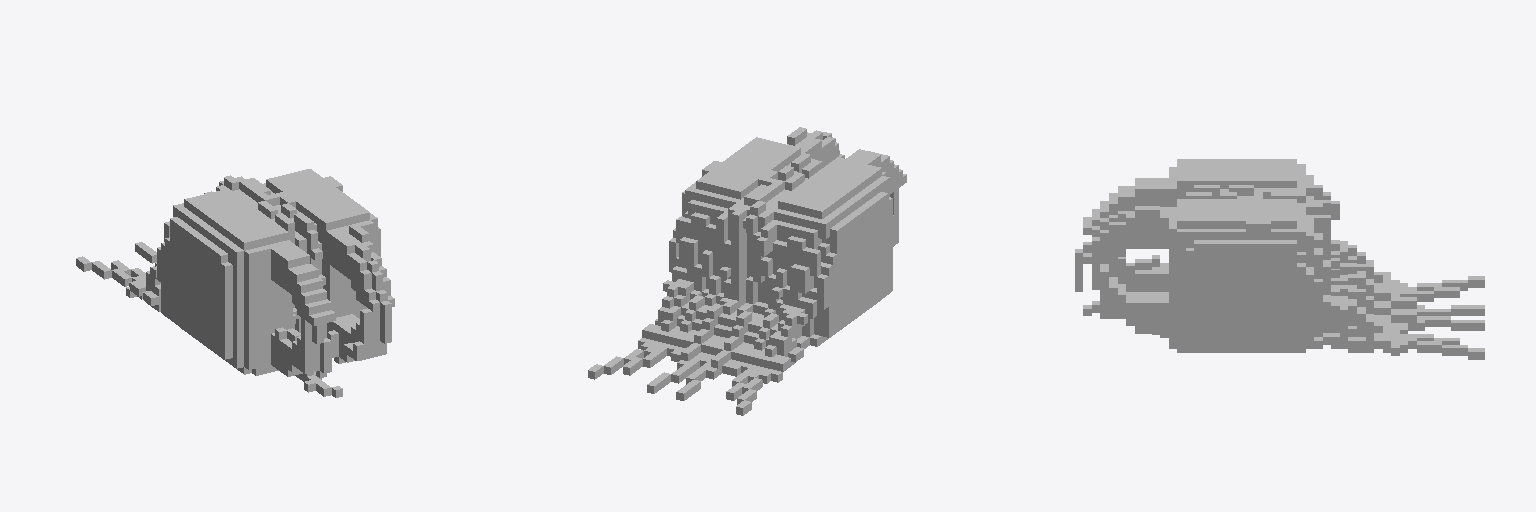
The model's file is brain.obj.
The picture shows the model from 3 angles: view 1: azimuth 30°, elevation 25°; view 2: azimuth 150°, elevation 25°; view 3: azimuth 270°, elevation 25°; orthographic projection.
Bounding box in the file's own units: 21 × 17 × 48.